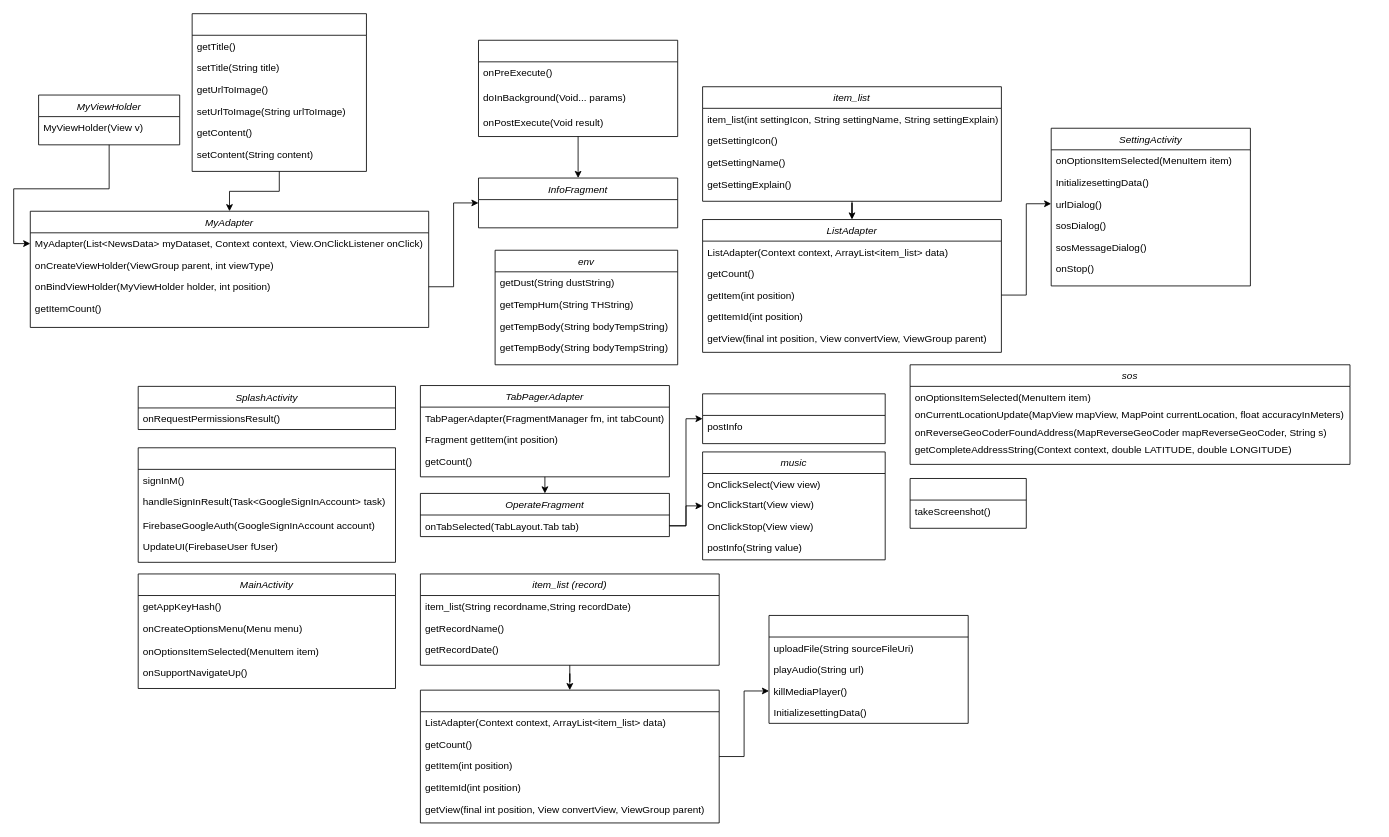
This 1389x837 diagram has some shape labels left out. Here are the shapes that lost their labels. From the top down, the box of each, then its label:
(191, 13, 366, 171): NewsData
(478, 39, 678, 137): JsoupAsyncTask
(702, 393, 885, 444): motor
(137, 447, 395, 562): LoginGoogleActivity
(909, 478, 1026, 528): streaming
(768, 615, 968, 723): RecordFragment
(420, 689, 719, 823): ListAdapter (record)
